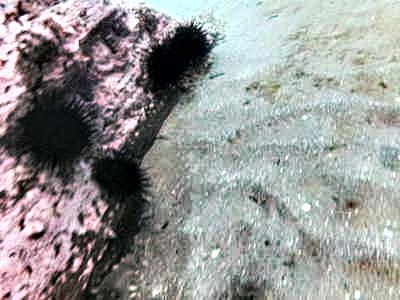urchin: (11, 92, 93, 169), (145, 17, 210, 84), (87, 150, 153, 205)
